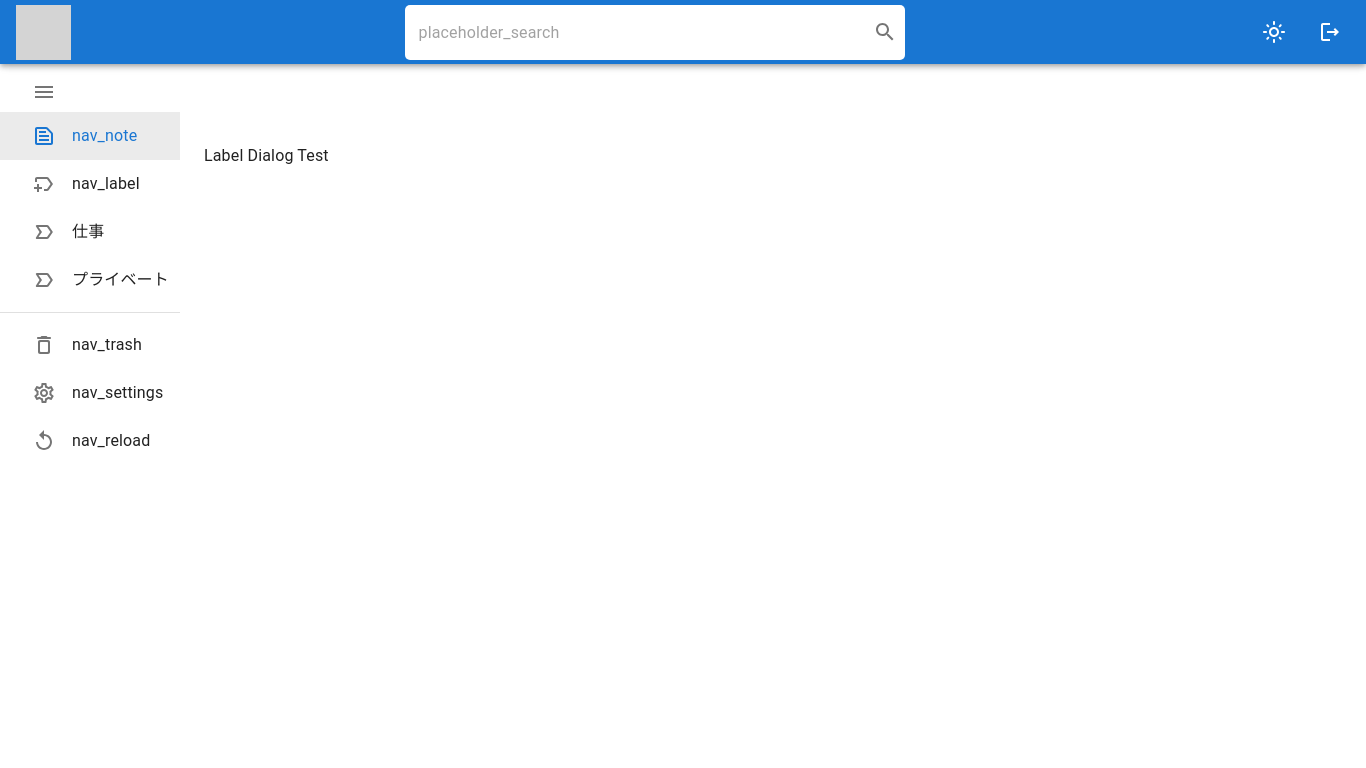
Test case: TopLayout › ラベルアイテムがクリックされたとき、ダイアログが表示される
Click the icon with test id "labelicon" at (44, 184), box [32, 172, 56, 196]
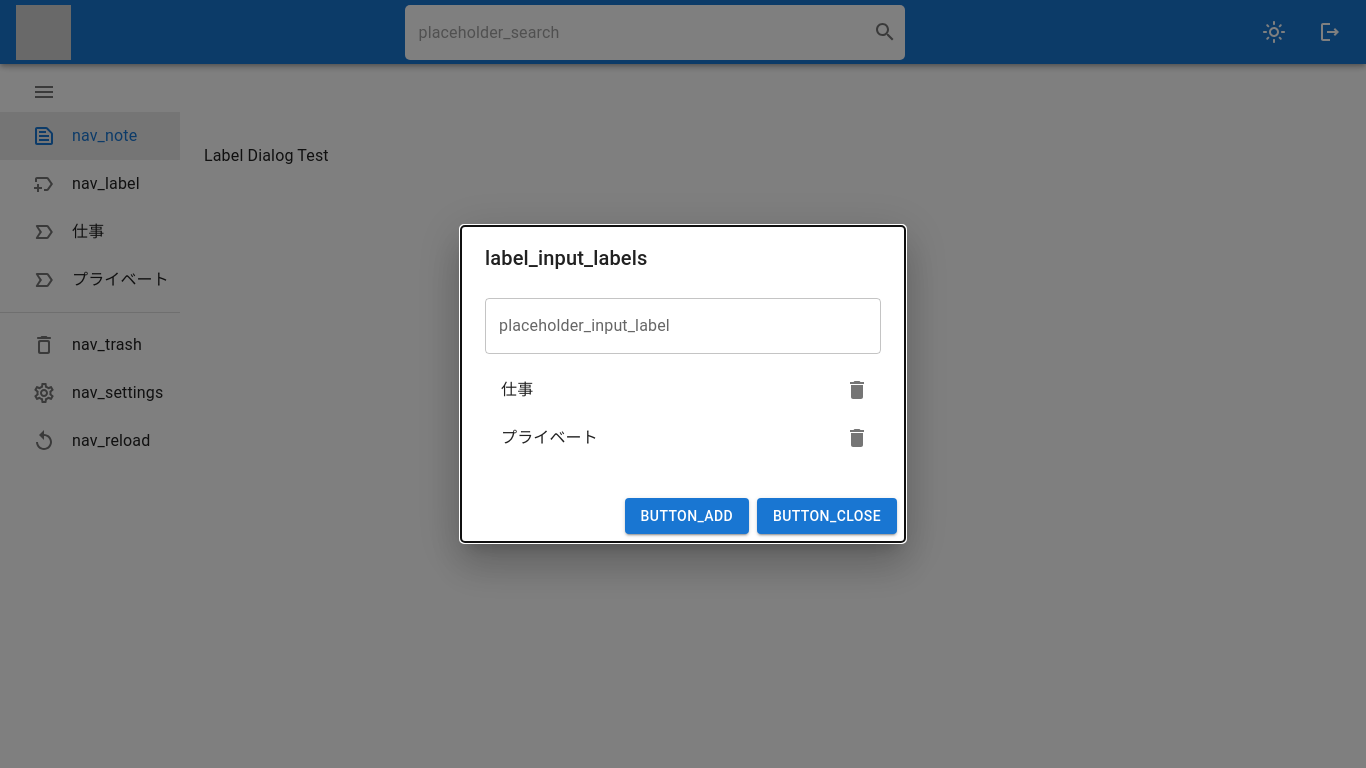
Expected: the dialog is shown, [461, 226, 905, 542]
